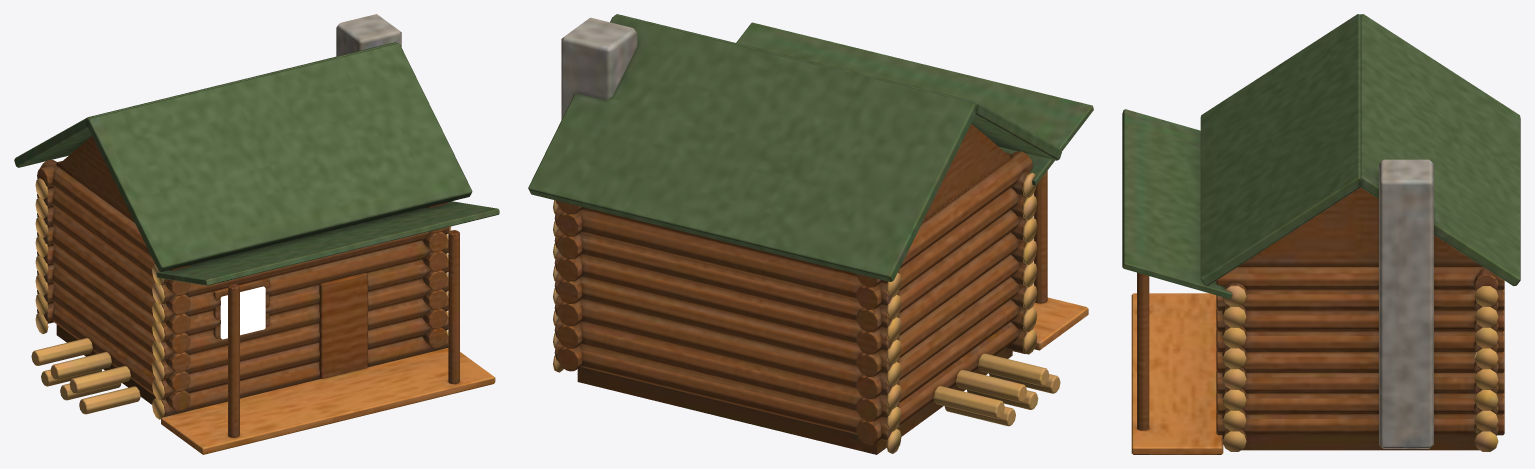
File: log_cabin.glb
The picture shows the model from 3 angles, left to right: view 1: azimuth 30°, elevation 25°; view 2: azimuth 150°, elevation 25°; view 3: azimuth 270°, elevation 25°; orthographic projection. The views are drawn at different scales.
Visible parts, largest first — view 1: log_cabin; view 2: log_cabin; view 3: log_cabin.
Part boxes in pixels (bbox=[...]): log_cabin: bbox=[14, 14, 499, 454]; log_cabin: bbox=[528, 14, 1093, 454]; log_cabin: bbox=[1122, 14, 1520, 454].
Bounding box in the file's own units: 1.97 × 1.4 × 1.74.
Materials: 1 (1 with a texture image).
